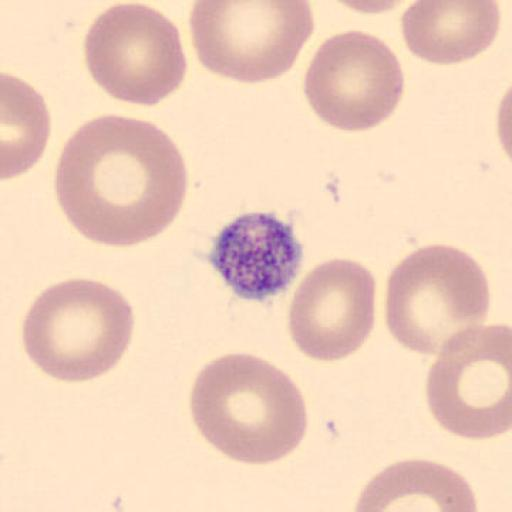Platelet: (205, 208, 307, 304)
RBC: (54, 112, 189, 248), (188, 350, 310, 467), (383, 242, 493, 357), (20, 276, 135, 384), (82, 1, 188, 108), (188, 0, 316, 86), (302, 29, 406, 133), (424, 321, 512, 441), (287, 256, 377, 363), (349, 457, 480, 512), (399, 0, 502, 66), (2, 70, 52, 180), (493, 76, 512, 170), (329, 0, 415, 17), (496, 87, 512, 164)
